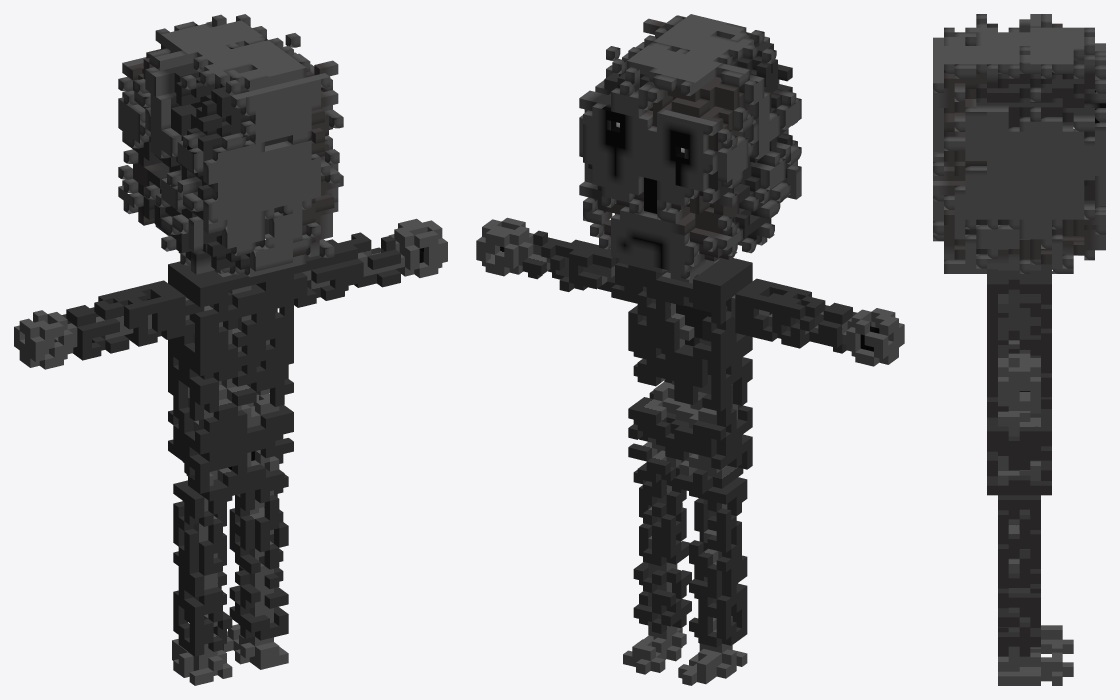
Rendered from RockusDAE.dae.
3 renders of one model, left to right at view 1: azimuth 30°, elevation 25°; view 2: azimuth 150°, elevation 25°; view 3: azimuth 270°, elevation 25°, orthographic.
Parts seen in each view (by area): view 1: Head-local, Chest-local, Stomach-local, Hips-local, UpperLegRight-local, UpperLegLeft-local, UpperLeftArm-local, LowerLegLeft-local, LowerLegRight-local, LowerLeftArm-local, LeftHand-local, UpperRightArm-local (+4 smaller); view 2: Head-local, Chest-local, Stomach-local, Hips-local, UpperLegRight-local, UpperLegLeft-local, UpperLeftArm-local, LowerLegLeft-local, LowerLegRight-local, LeftHand-local, LowerLeftArm-local, UpperRightArm-local (+4 smaller); view 3: Head-local, UpperLegLeft-local, Stomach-local, Chest-local, Hips-local, LowerLegLeft-local, RightHand-local, FootLeft-local, UpperRightArm-local, LowerRightArm-local, FootRight-local.
Part boxes in pixels (bbox=[...]): Head-local: bbox=[118, 14, 343, 277]; Chest-local: bbox=[168, 261, 293, 376]; Stomach-local: bbox=[168, 353, 293, 454]; Hips-local: bbox=[168, 434, 293, 501]; UpperLegRight-local: bbox=[173, 480, 232, 597]; UpperLegLeft-local: bbox=[229, 474, 288, 577]; UpperLeftArm-local: bbox=[108, 280, 194, 346]; LowerLegLeft-local: bbox=[229, 566, 288, 646]; LowerLegRight-local: bbox=[173, 586, 232, 659]; LowerLeftArm-local: bbox=[62, 294, 129, 360]; LeftHand-local: bbox=[14, 310, 73, 369]; UpperRightArm-local: bbox=[294, 239, 354, 307]; Head-local: bbox=[579, 14, 801, 279]; Chest-local: bbox=[628, 258, 752, 372]; Stomach-local: bbox=[628, 352, 752, 448]; Hips-local: bbox=[628, 424, 752, 494]; UpperLegRight-local: bbox=[689, 477, 747, 589]; UpperLegLeft-local: bbox=[633, 470, 689, 571]; UpperLeftArm-local: bbox=[731, 278, 811, 346]; LowerLegLeft-local: bbox=[633, 562, 691, 639]; LowerLegRight-local: bbox=[689, 579, 747, 652]; LeftHand-local: bbox=[846, 308, 904, 366]; LowerLeftArm-local: bbox=[790, 296, 857, 353]; UpperRightArm-local: bbox=[569, 242, 637, 303]; Head-local: bbox=[933, 14, 1105, 273]; UpperLegLeft-local: bbox=[998, 495, 1040, 593]; Stomach-local: bbox=[987, 372, 1051, 450]; Chest-local: bbox=[987, 264, 1051, 372]; Hips-local: bbox=[987, 446, 1051, 495]; LowerLegLeft-local: bbox=[998, 584, 1040, 661]; RightHand-local: bbox=[998, 353, 1040, 410]; FootLeft-local: bbox=[998, 652, 1073, 685]; UpperRightArm-local: bbox=[998, 294, 1040, 355]; LowerRightArm-local: bbox=[998, 326, 1040, 357]; FootRight-local: bbox=[1030, 625, 1073, 653].
Size of the model in its own units: 44 by 63 by 16.
Materials: 17 (17 with a texture image).
